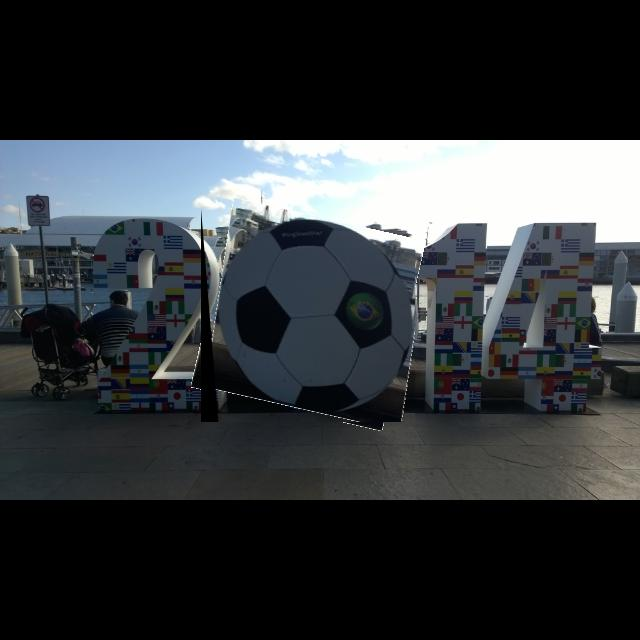Football: (201, 208, 415, 422)
